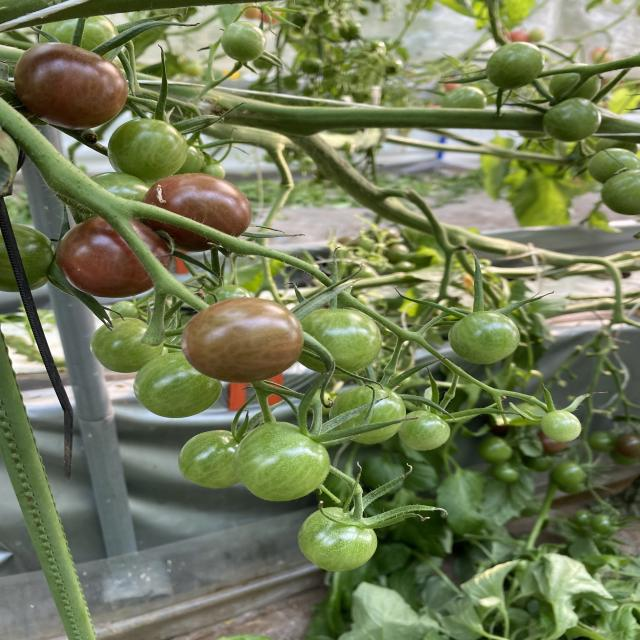yesil: (150, 422, 421, 583)
